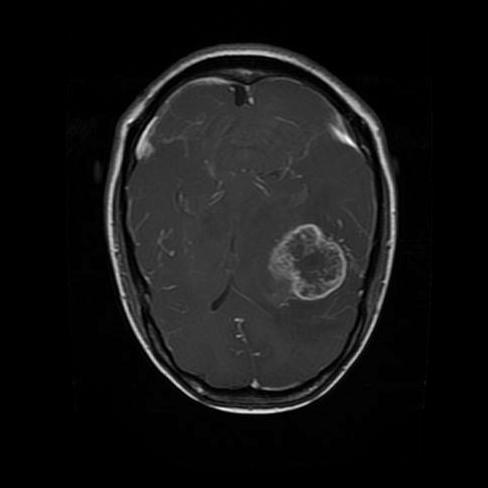Tumour-Glioma: (263, 219, 356, 311)
